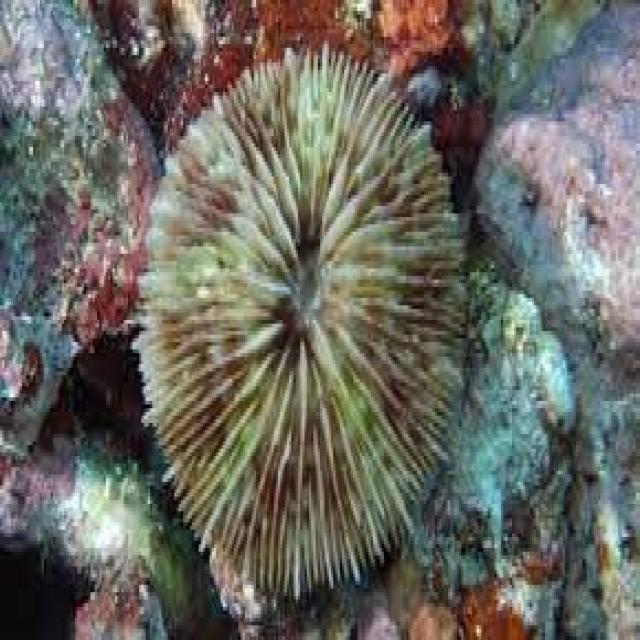Healthy Coral: (137, 30, 475, 602)
